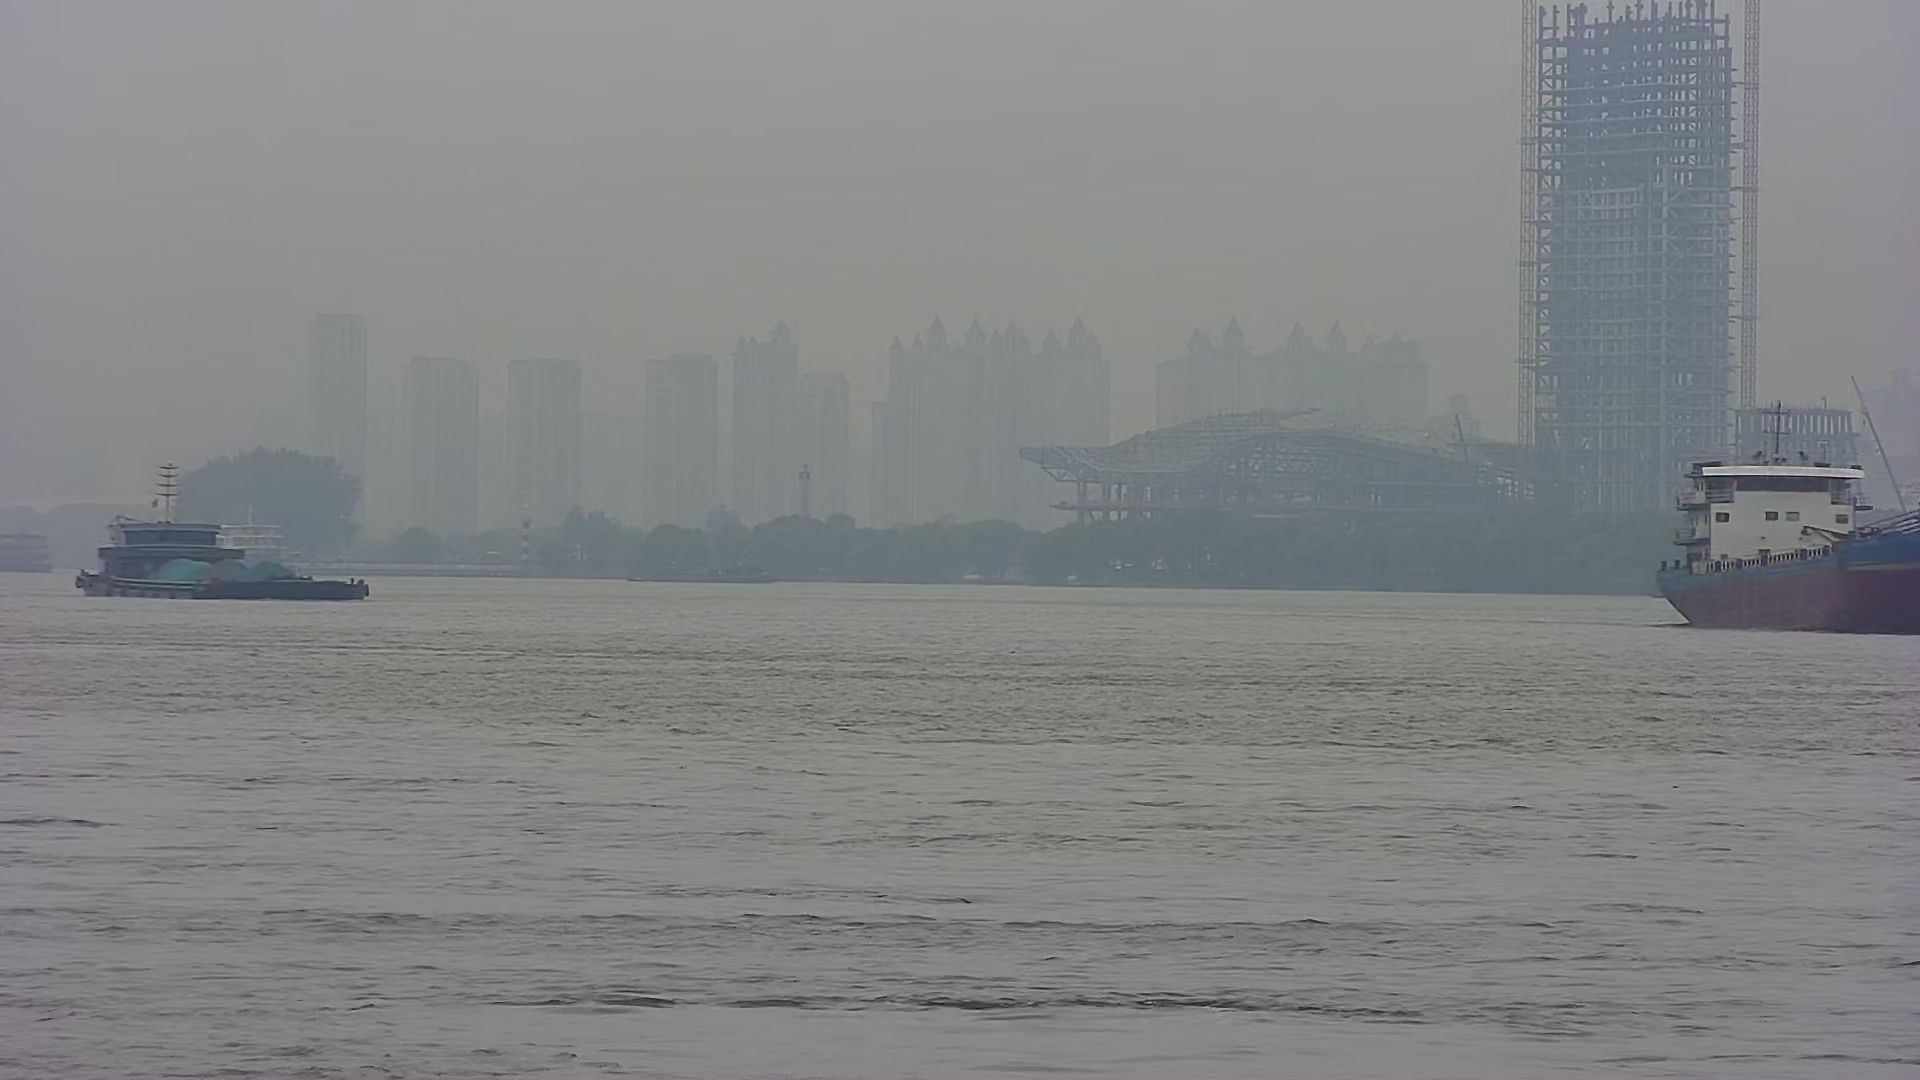ship: (1644, 401, 1920, 651), (70, 472, 386, 611), (214, 498, 334, 583)
